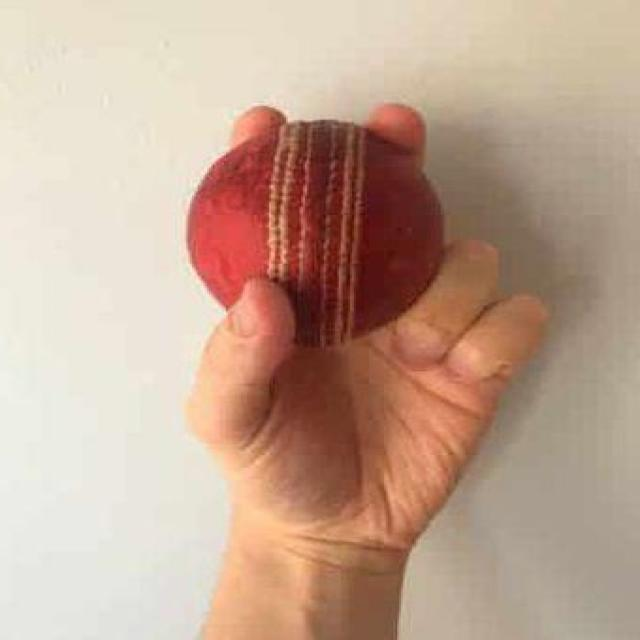ball: (185, 117, 446, 343)
